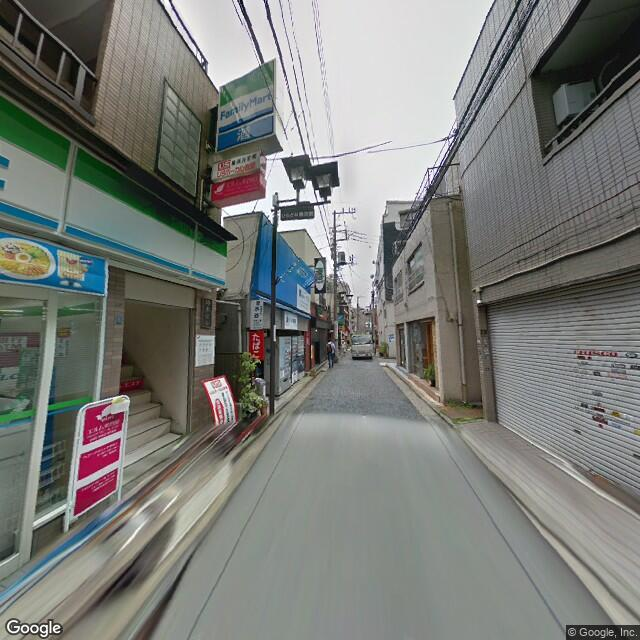family_mart: (1, 91, 225, 285), (215, 56, 280, 155)
